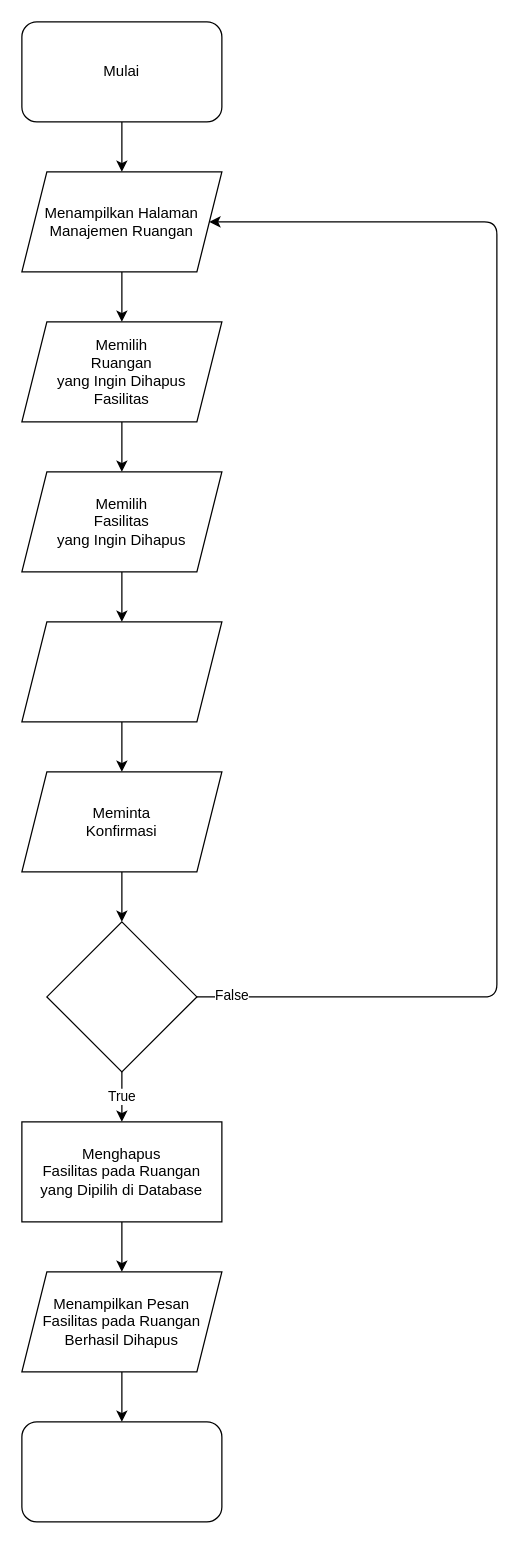
Image size: 529x1544. Some labels were removed from this diagram. The shapes that lost their labels are listed below. From the top down, each one's centre as x and y in pixels, then its label:
the point at 121,671: Menekan Tombol Hapus
the point at 121,996: Konfirmasi Iya?
the point at 121,1471: Selesai
